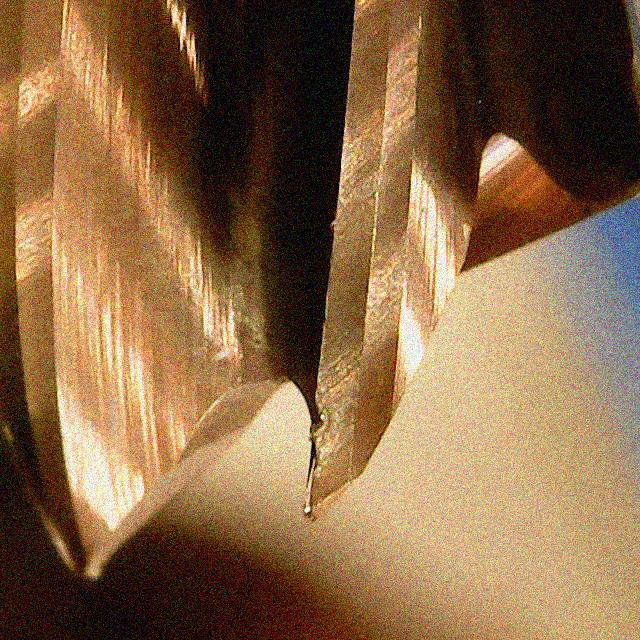Tool-wear-class-1: (289, 230, 427, 522)
